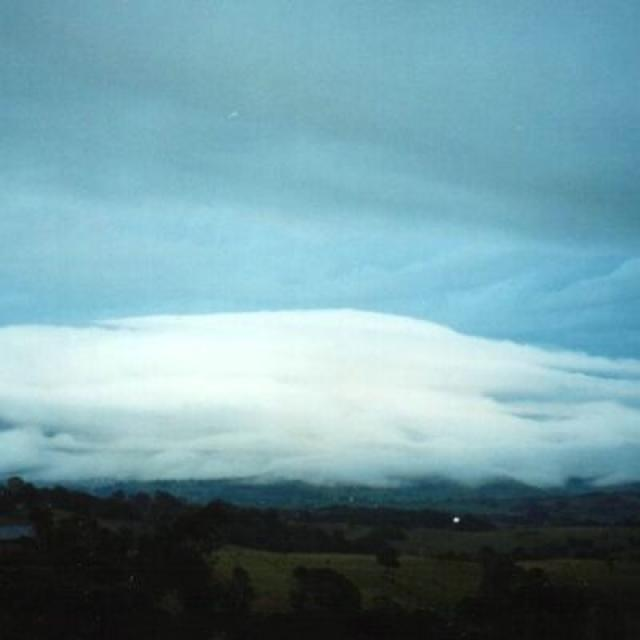Ns: (1, 117, 640, 467)
